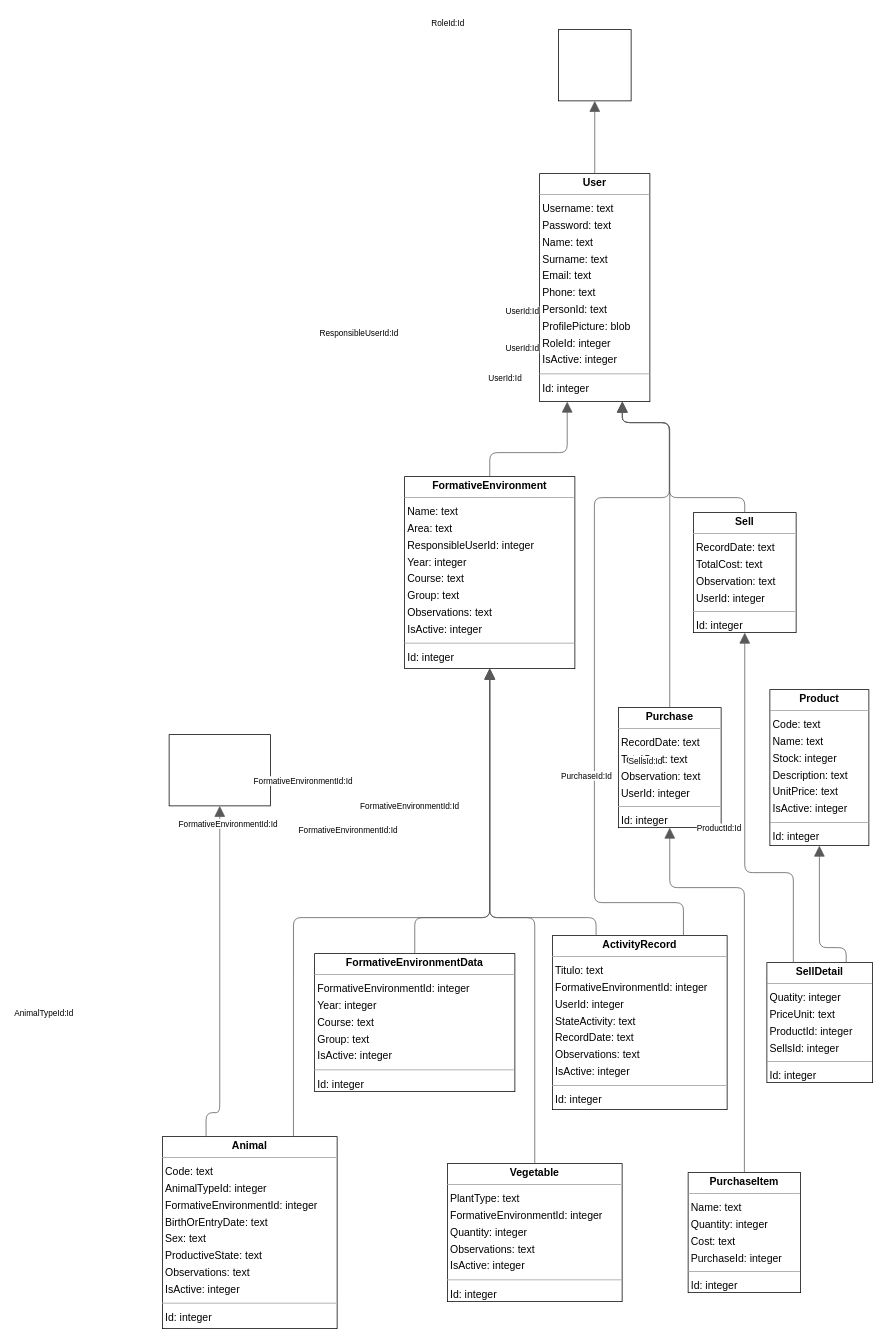
Image size: 886x1342. Some labels were removed from this diagram. Each missing label, with the centre of its shape:
"AnimalType Name: text Id: integer" goes at (219,770).
"Role Name: text Id: integer" goes at (594,65).
